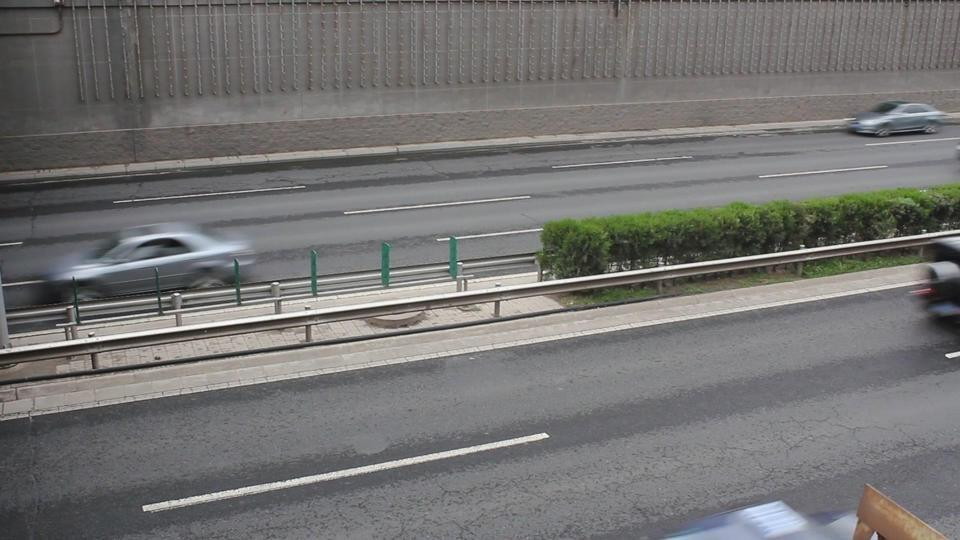car: (43, 222, 258, 300), (847, 100, 944, 137)
